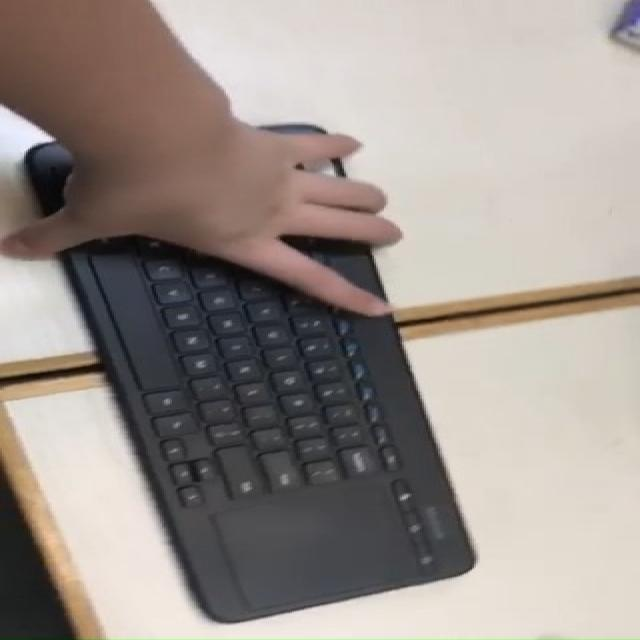keyboard-with-hands: (43, 123, 476, 620)
